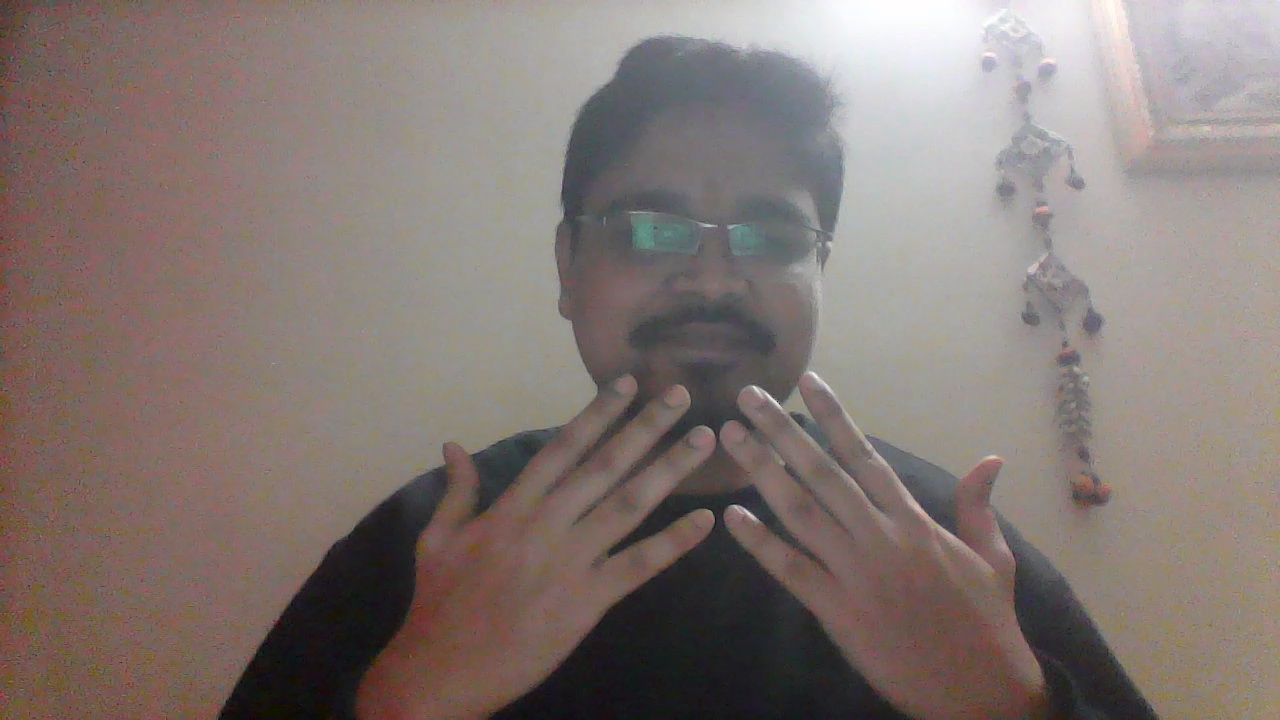Thanks: (406, 372, 1026, 720)
